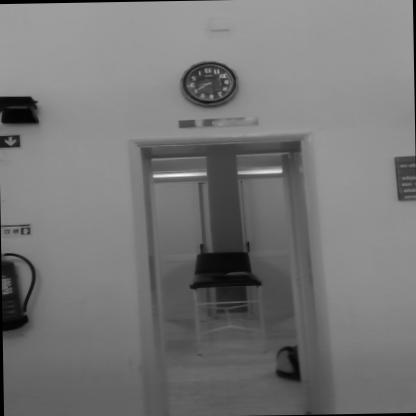open: (119, 132, 326, 413)
